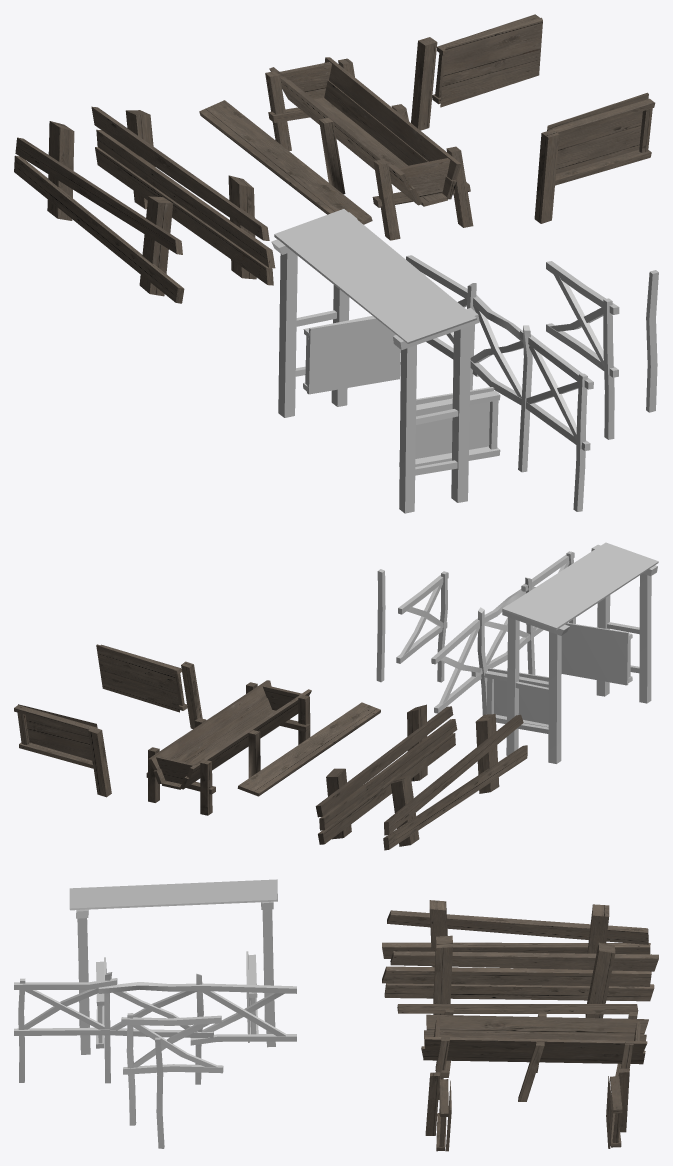
Rendered from type3.fbx.
3 renders of one model, top to bottom at view 1: azimuth 30°, elevation 25°; view 2: azimuth 150°, elevation 25°; view 3: azimuth 270°, elevation 25°, orthographic. The views are drawn at different scales.
Visible parts, largest first — view 1: mesh_292, mesh_328, mesh_504, mesh_465.002, mesh_466, mesh_184.012, mesh_486.001, mesh_183.001, mesh_182.001; view 2: mesh_292, mesh_504, mesh_328, mesh_465.002, mesh_466, mesh_184.012, mesh_486.001, mesh_183.001, mesh_182.001; view 3: mesh_465.002, mesh_504, mesh_184.012, mesh_292, mesh_466, mesh_183.001, mesh_328, mesh_486.001, mesh_182.001.
Part boxes in pixels (x1,y1,x2,y2): mesh_292: [271, 209, 500, 513]; mesh_328: [411, 14, 655, 223]; mesh_504: [265, 57, 473, 240]; mesh_465.002: [91, 106, 275, 285]; mesh_466: [14, 121, 184, 303]; mesh_184.012: [406, 255, 593, 511]; mesh_486.001: [199, 100, 372, 224]; mesh_183.001: [546, 261, 619, 439]; mesh_182.001: [646, 270, 658, 412]; mesh_292: [484, 542, 658, 763]; mesh_504: [146, 680, 311, 815]; mesh_328: [14, 644, 202, 797]; mesh_465.002: [315, 704, 457, 844]; mesh_466: [383, 714, 527, 850]; mesh_184.012: [431, 551, 575, 715]; mesh_486.001: [237, 702, 380, 796]; mesh_183.001: [396, 571, 448, 682]; mesh_182.001: [376, 569, 385, 682]; mesh_465.002: [382, 935, 658, 1018]; mesh_504: [421, 1008, 648, 1101]; mesh_184.012: [14, 972, 296, 1084]; mesh_292: [69, 879, 277, 1054]; mesh_466: [382, 900, 650, 967]; mesh_183.001: [121, 1013, 223, 1125]; mesh_328: [425, 1068, 629, 1151]; mesh_486.001: [397, 1004, 638, 1014]; mesh_182.001: [155, 1037, 164, 1148].
Bounding box in the file's own units: 732 × 278 × 1016.
